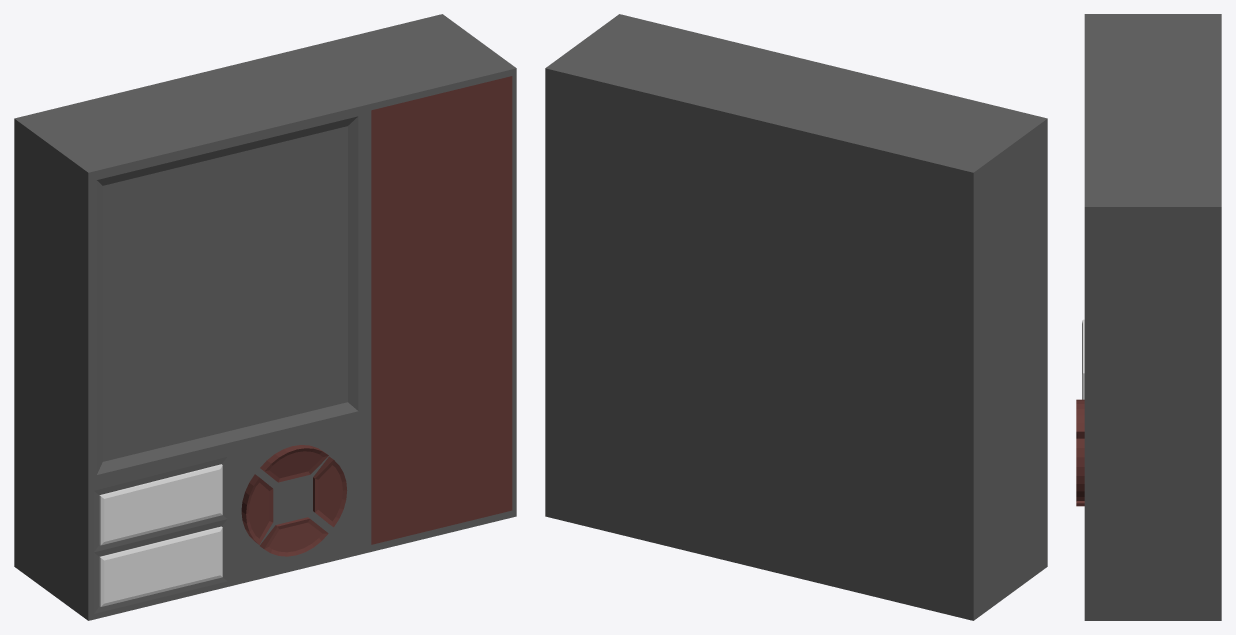
Rendered from WallComputer.fbx.
3 views of the same model, side by side, from view 1: azimuth 30°, elevation 25°; view 2: azimuth 150°, elevation 25°; view 3: azimuth 270°, elevation 25° (orthographic). The views are drawn at different scales.
Parts seen in each view (by area): view 1: Box, Screen, PanelFlap, Buttons, LightBlue, LightGreen; view 2: Box; view 3: Box, Buttons, LightBlue.
Boxes of the visible parts, bbox=[...] form: Box: bbox=[14, 14, 516, 620]; Screen: bbox=[103, 126, 347, 461]; PanelFlap: bbox=[371, 76, 512, 544]; Buttons: bbox=[241, 445, 347, 556]; LightBlue: bbox=[99, 464, 222, 545]; LightGreen: bbox=[99, 526, 222, 606]; Box: bbox=[545, 14, 1047, 620]; Box: bbox=[1084, 14, 1221, 620]; Buttons: bbox=[1076, 399, 1084, 506]; LightBlue: bbox=[1082, 319, 1084, 399].
Bounding box in the file's own units: 60 × 60 × 19.13.
